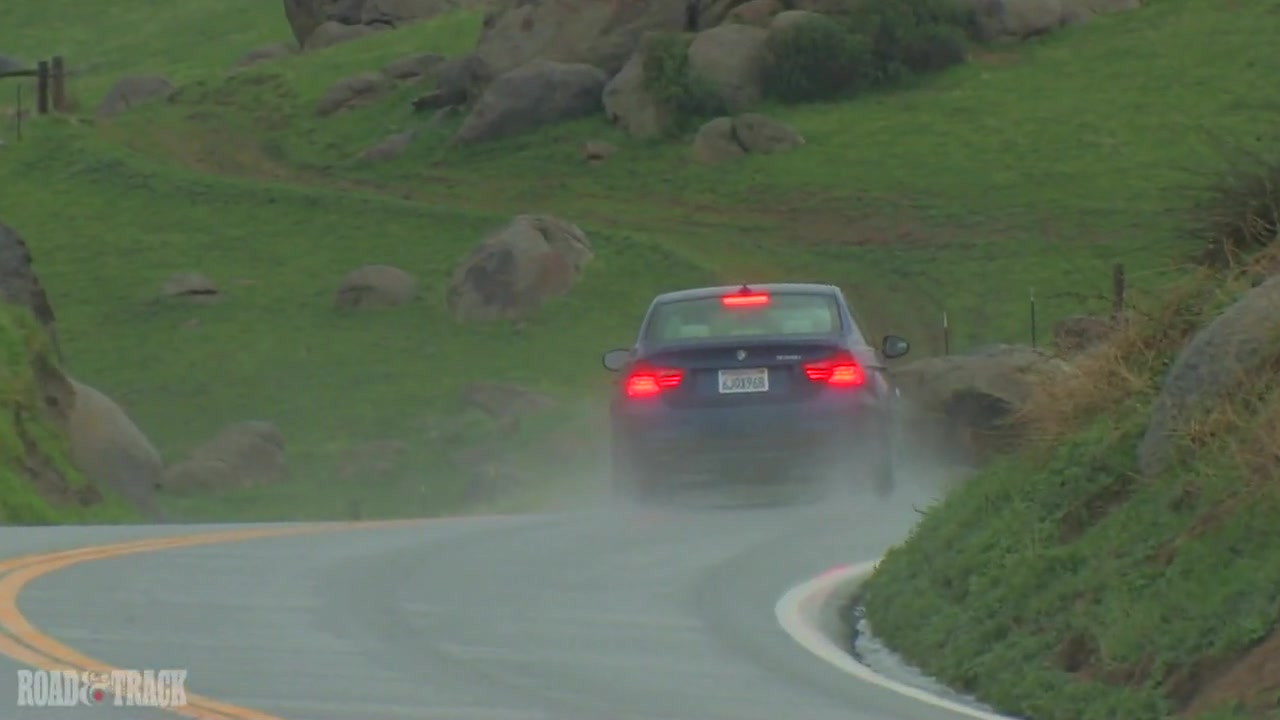car: (605, 285, 915, 510)
